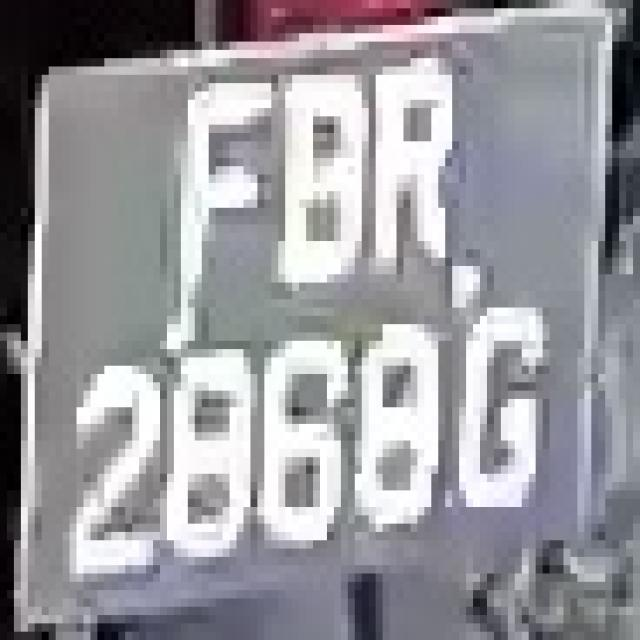2: (56, 341, 174, 590)
6: (257, 299, 355, 565)
8: (341, 307, 466, 532), (167, 324, 264, 565)
B: (250, 58, 362, 324)
F: (139, 58, 271, 308)
G: (445, 266, 564, 524)
R: (355, 33, 459, 299)
